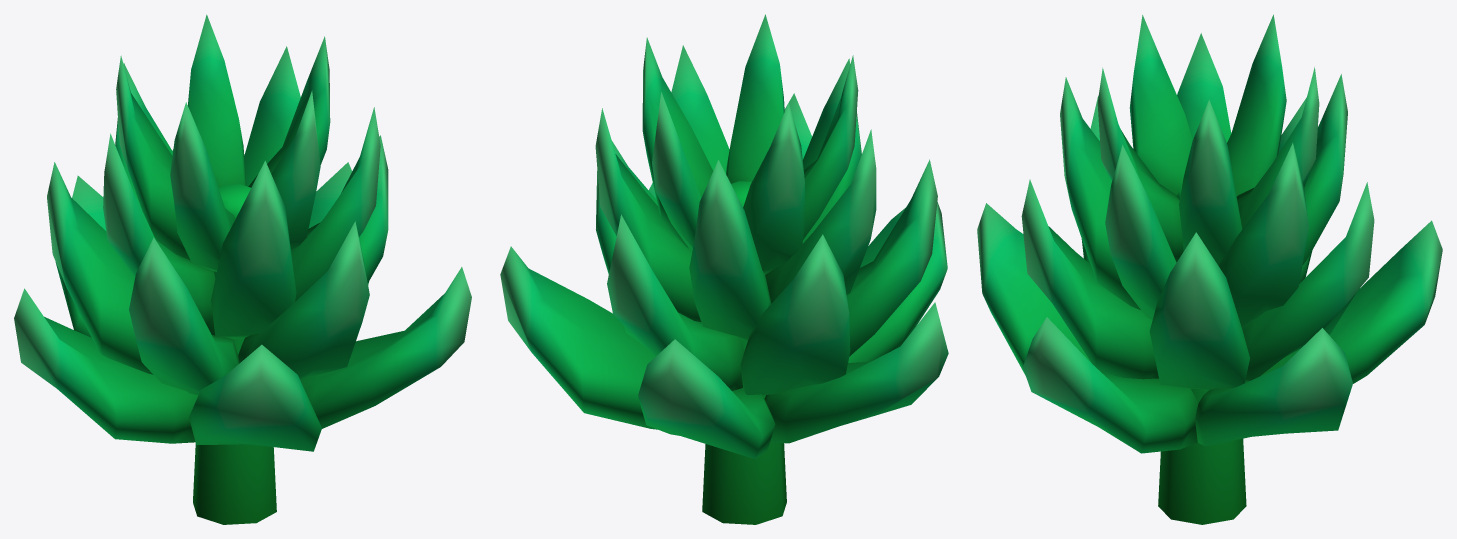
The model's file is capsule_contents_010.glb.
The picture shows the model from 3 angles, left to right: view 1: azimuth 30°, elevation 25°; view 2: azimuth 150°, elevation 25°; view 3: azimuth 270°, elevation 25°; orthographic projection.
Parts seen in each view (by area): view 1: Сapsule_contents_010; view 2: Сapsule_contents_010; view 3: Сapsule_contents_010.
Part boxes in pixels (box(x1,y1,x2,y2)): Сapsule_contents_010: box(14, 14, 471, 524); Сapsule_contents_010: box(500, 14, 948, 524); Сapsule_contents_010: box(977, 14, 1442, 524).
Bounding box in the file's own units: 0.811 × 0.8839 × 0.8231.
Materials: 1 (1 with a texture image).
